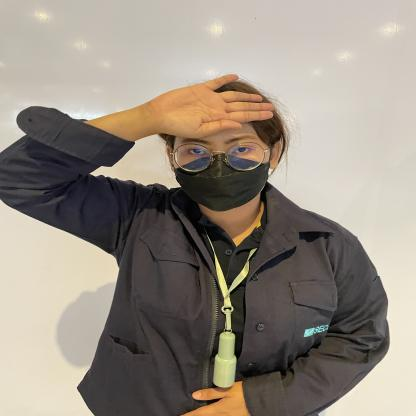Sick: (79, 55, 337, 138)
